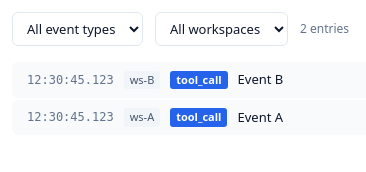
Test: TrailStream › filters entries by workspace
Select "ws-A" in the 2nd dropdown. click: (222, 29)
box: [155,12,288,46]
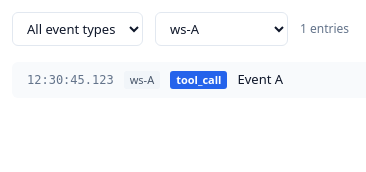
Expected: the text "Event A" is shown, [238,70,283,90]
Expected: the text "1 entries" is shown, [300,20,349,38]
Expected: the button "Event B" is gone
